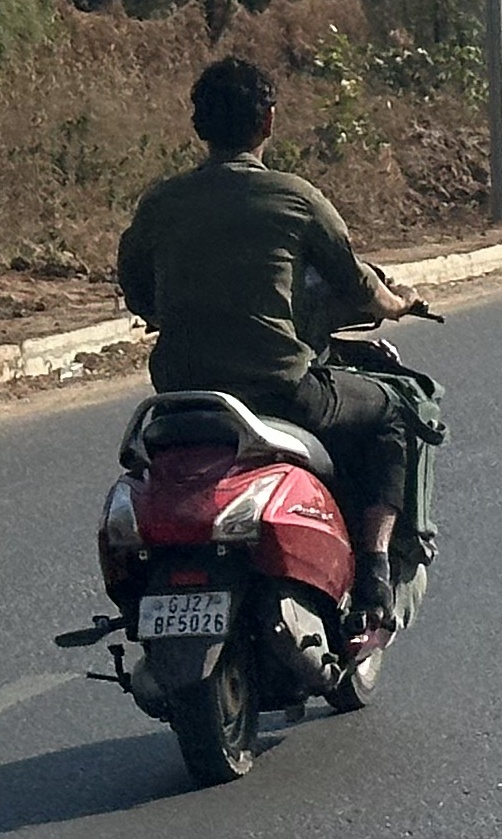BikeWithRider: (37, 46, 469, 788)
NoHelmet: (181, 42, 287, 173)
